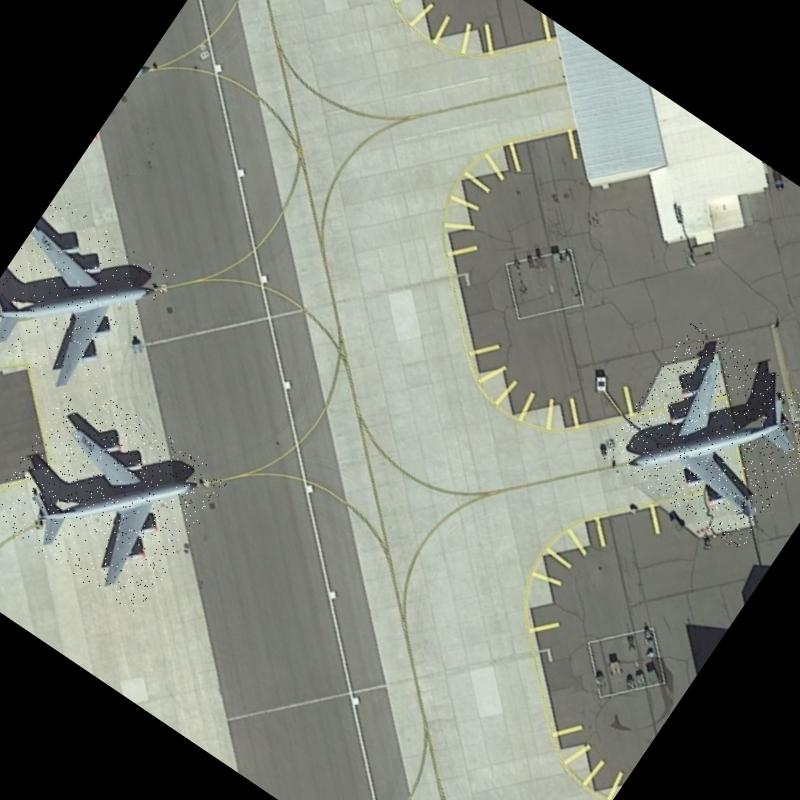A14: (0, 374, 230, 618), (600, 318, 800, 552), (0, 195, 175, 407)
